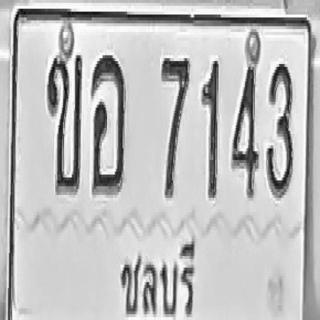A02: (47, 46, 82, 192)
A43: (90, 52, 125, 192)
N01: (201, 57, 219, 196)
N03: (266, 60, 293, 196)
N04: (231, 45, 260, 196)
N07: (161, 54, 189, 196)
P13: (118, 233, 195, 320)
